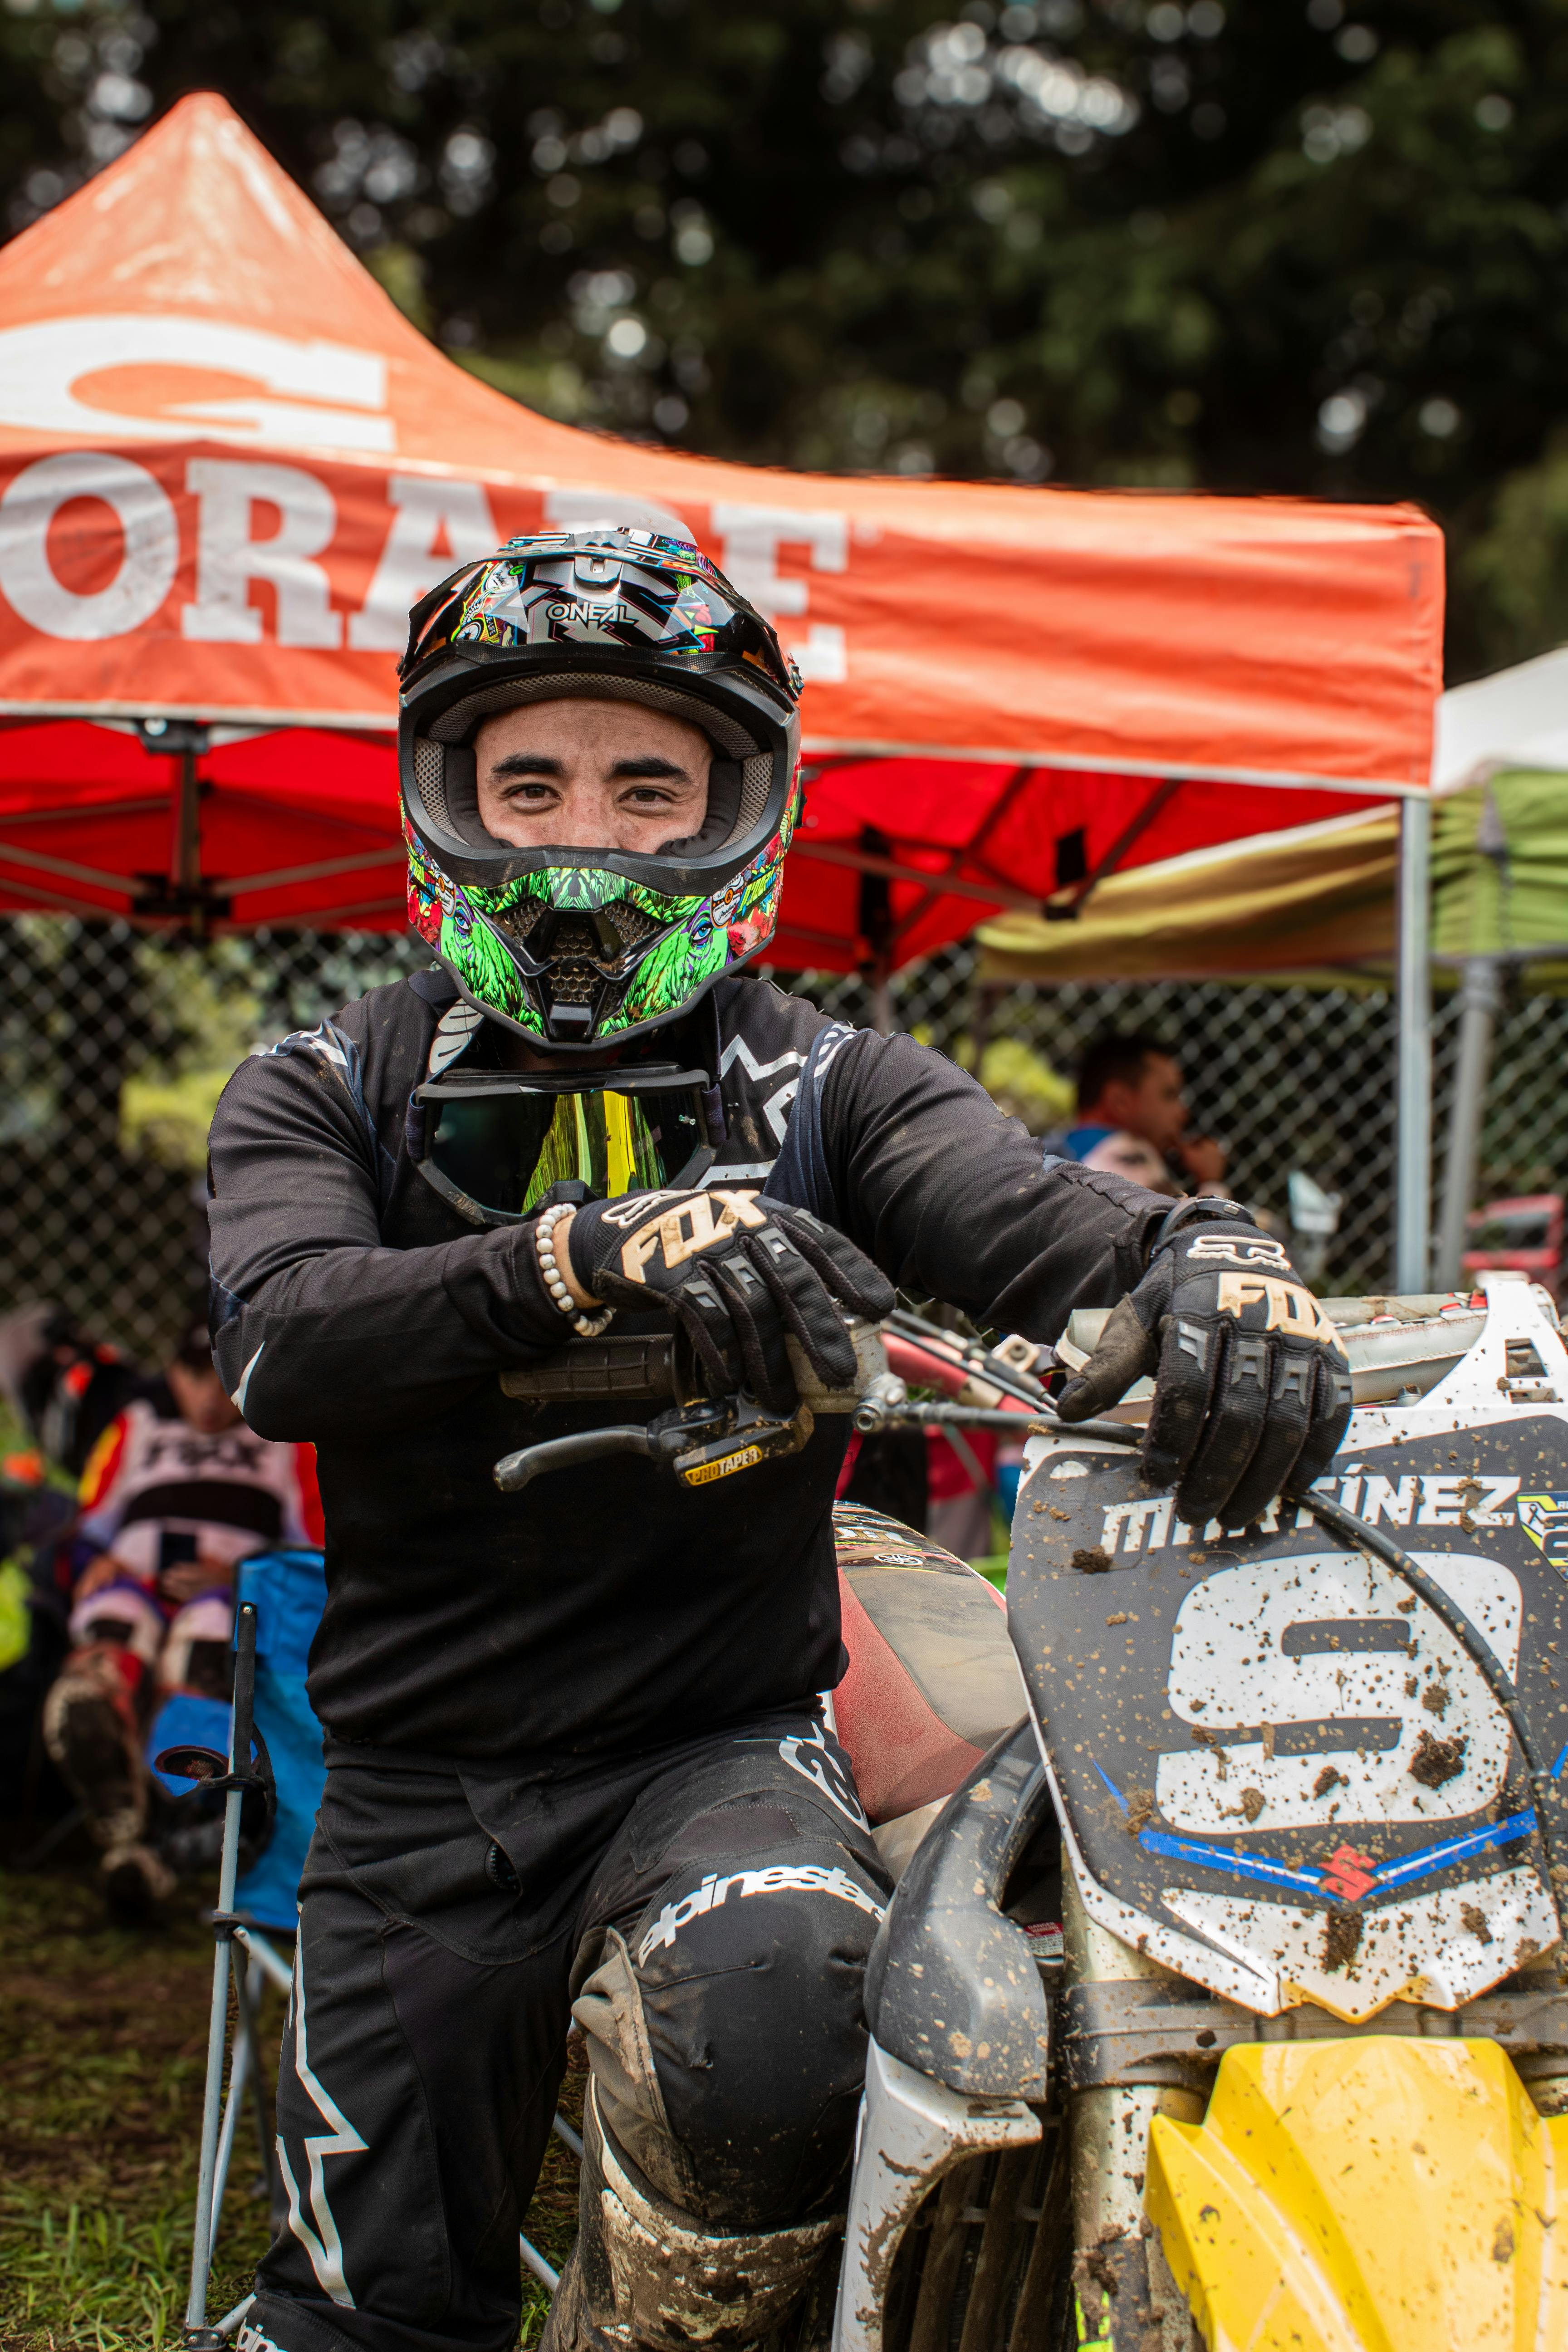capacete: (385, 514, 802, 1055)
